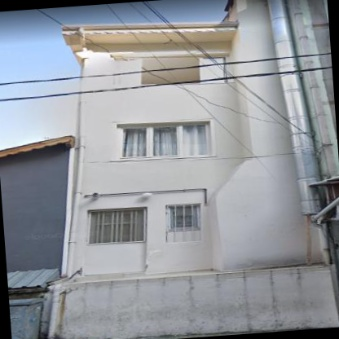door: (81, 208, 150, 276)
